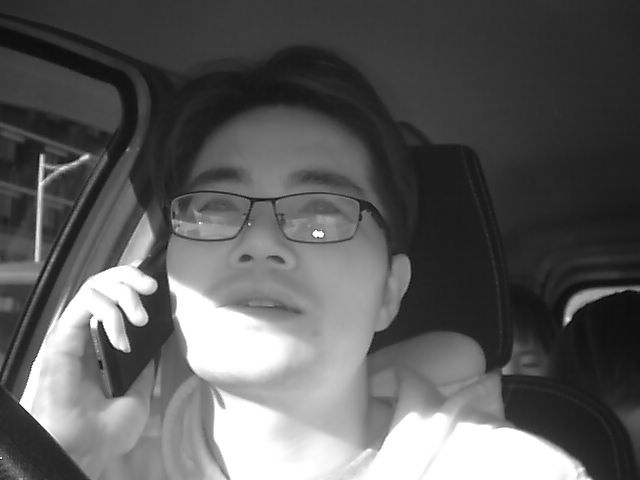hand: (45, 262, 156, 449)
